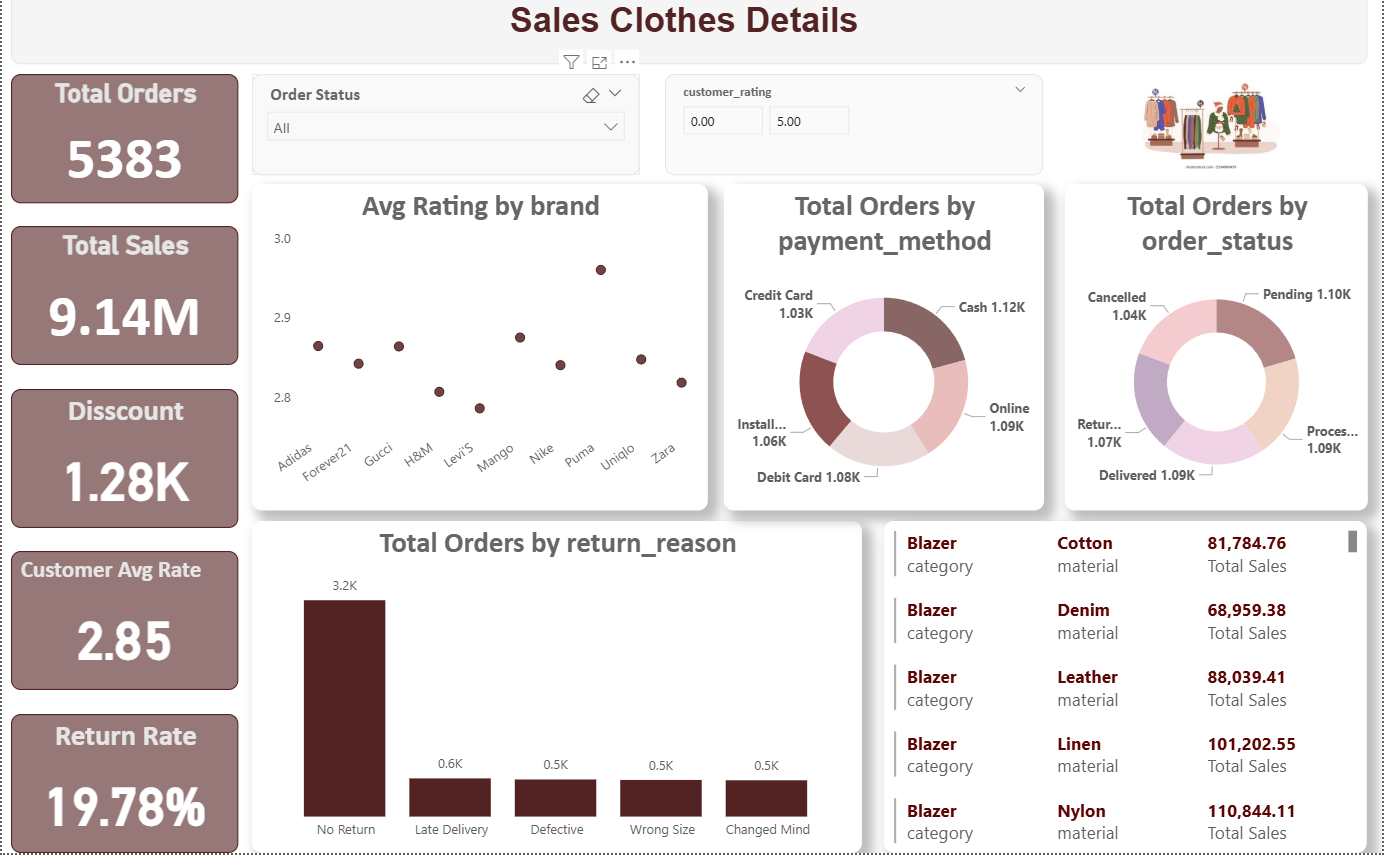

The dashboard page shown, as its layout file describes it:
{"tool":"powerbi","page":{"name":"Sales Clothes Details ","canvas":[1280,800],"ordinal":1},"visuals":[{"type":"textbox","box":[8.8,0,1258.6,68.1],"z":0},{"type":"card","title":"Total Orders","fields":{"Values":["DAX.Total Orders"]},"box":[8.8,76.8,211.1,119.6],"z":1000},{"type":"card","title":"Total Sales","fields":{"Values":["DAX.Total Sales "]},"box":[8.8,218.1,211.1,129.4],"z":2000},{"type":"card","title":"Disscount","fields":{"Values":["DAX.Total Discount"]},"box":[8.8,369.1,211.1,129.4],"z":3000},{"type":"card","title":"Customer Avg Rate","fields":{"Values":["DAX.Avg Rating"]},"box":[8.8,520.1,211.1,129.4],"z":4000},{"type":"card","title":"Return Rate","fields":{"Values":["DAX.Return Rate"]},"box":[8.8,670.6,211.1,129.4],"z":5000},{"type":"scatterChart","fields":{"X":["Cleaned_Clothes.brand"],"Y":["DAX.Avg Rating"]},"box":[232.5,179,423.1,303.5],"z":6000},{"type":"columnChart","fields":{"Category":["Cleaned_Clothes.return_reason"],"Y":["DAX.Total Orders"]},"box":[232.5,492.2,566.1,308.3],"z":7000},{"type":"donutChart","fields":{"Category":["Cleaned_Clothes.payment_method"],"Y":["DAX.Total Orders"]},"box":[670.2,179,296.7,303.5],"z":8000},{"type":"slicer","fields":{"Values":["Cleaned_Clothes.order_status"]},"box":[232.5,76.8,359.9,94.3],"z":9000},{"type":"slicer","fields":{"Values":["Cleaned_Clothes.customer_rating"]},"box":[615.7,76.8,351.1,94.3],"z":10000},{"type":"image","box":[978.5,76.8,288.9,94.3],"z":11000},{"type":"donutChart","fields":{"Category":["Cleaned_Clothes.order_status"],"Y":["DAX.Total Orders"]},"box":[986.3,179,281.1,303.5],"z":12000},{"type":"multiRowCard","fields":{"Values":["Cleaned_Clothes.category","Cleaned_Clothes.material","DAX.Total Sales "]},"box":[819,492.2,448.4,308.3],"z":13000}]}

Visuals, with their boxes in screenshot pixels (x1, y1, x2, y2), scaled from the page's 1280x800 canvas onto the 1384x856 screenshot:
textbox: {"left": 10, "top": 0, "right": 1370, "bottom": 73}
"Total Orders" card: {"left": 10, "top": 82, "right": 238, "bottom": 210}
"Total Sales" card: {"left": 10, "top": 233, "right": 238, "bottom": 372}
"Disscount" card: {"left": 10, "top": 395, "right": 238, "bottom": 533}
"Customer Avg Rate" card: {"left": 10, "top": 557, "right": 238, "bottom": 695}
"Return Rate" card: {"left": 10, "top": 718, "right": 238, "bottom": 855}
scatterChart - Cleaned_Clothes.brand x DAX.Avg Rating: {"left": 251, "top": 192, "right": 709, "bottom": 516}
columnChart - Cleaned_Clothes.return_reason x DAX.Total Orders: {"left": 251, "top": 527, "right": 863, "bottom": 855}
donutChart - Cleaned_Clothes.payment_method x DAX.Total Orders: {"left": 725, "top": 192, "right": 1045, "bottom": 516}
slicer - Cleaned_Clothes.order_status: {"left": 251, "top": 82, "right": 641, "bottom": 183}
slicer - Cleaned_Clothes.customer_rating: {"left": 666, "top": 82, "right": 1045, "bottom": 183}
image: {"left": 1058, "top": 82, "right": 1370, "bottom": 183}
donutChart - Cleaned_Clothes.order_status x DAX.Total Orders: {"left": 1066, "top": 192, "right": 1370, "bottom": 516}
multiRowCard - Cleaned_Clothes.category x Cleaned_Clothes.material: {"left": 886, "top": 527, "right": 1370, "bottom": 855}
